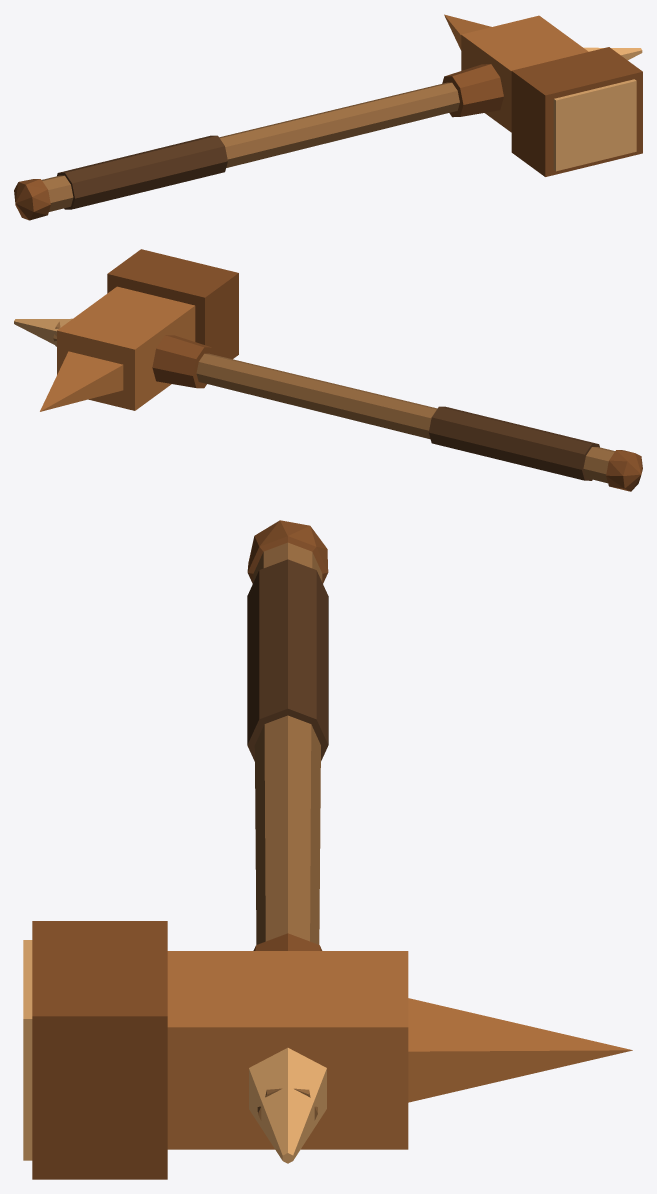
The model's file is drop_bronze_warhammer.glb.
3 views of the same model, one above another, from view 1: azimuth 30°, elevation 25°; view 2: azimuth 150°, elevation 25°; view 3: azimuth 270°, elevation 25° (orthographic). The views are drawn at different scales.
Visible parts, largest first — view 1: drop_bronze_warhammer; view 2: drop_bronze_warhammer; view 3: drop_bronze_warhammer.
Part boxes in pixels (x1,y1,x2,y2): drop_bronze_warhammer: (14,14,642,220); drop_bronze_warhammer: (14,249,642,491); drop_bronze_warhammer: (23,520,632,1179).
Size of the model in its own units: 0.7688 by 0.096 by 0.3248.
